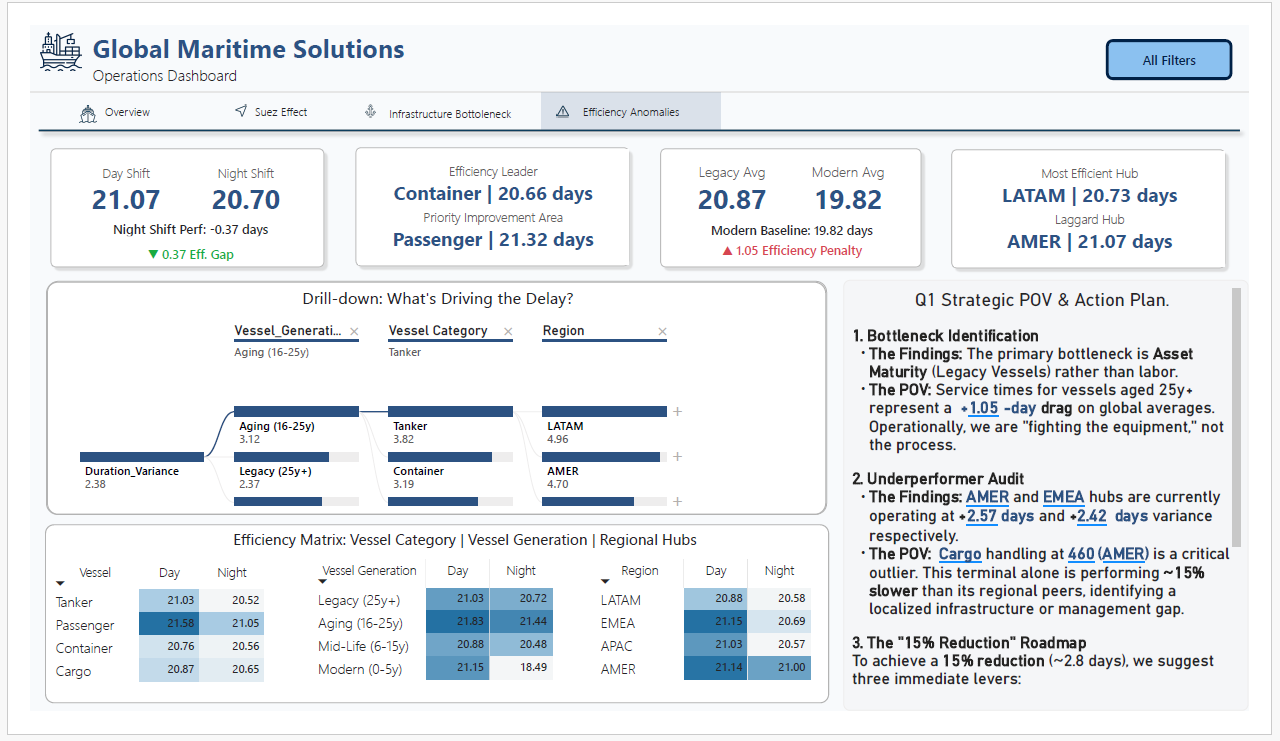

What the dashboard file says about the page in this screenshot:
{"tool":"powerbi","page":{"name":"Efficiency Anomalies","canvas":[1280,720],"ordinal":3},"visuals":[{"type":"actionButton","box":[27.3,70,148.8,40],"z":0,"group":"g5"},{"type":"actionButton","box":[178.5,70,167.5,40],"z":0,"group":"g6"},{"type":"actionButton","box":[347.3,70,187.5,42.5],"z":0,"group":"g7"},{"type":"actionButton","box":[537.3,70,187.5,38.8],"z":0,"group":"g8"},{"type":"shape","box":[335.2,122.1,300,137],"z":0,"group":"g10"},{"type":"shape","box":[655.6,122.6,286.6,137],"z":0,"group":"g11"},{"type":"shape","box":[14.9,123.1,300,137],"z":0,"group":"g9"},{"type":"shape","box":[962.5,123.5,300,137],"z":0,"group":"g12"},{"type":"cardVisual","fields":{"Data":["fact_cargo_movements.Best_Category_Display","fact_cargo_movements.Worst_Category_Display"]},"box":[343.8,130.2,284,120.8],"z":0,"group":"g1"},{"type":"cardVisual","fields":{"Data":["fact_cargo_movements.Best_Hub_Display","fact_cargo_movements.Worst_Hub_Display"]},"box":[971.1,131.6,284,120.8],"z":0,"group":"g2"},{"type":"cardVisual","fields":{"Data":["fact_cargo_movements.Legacy_Avg","fact_cargo_movements.Modern_Avg"]},"box":[663.6,132.4,268,76],"z":0,"group":"g3"},{"type":"cardVisual","fields":{"Data":["fact_cargo_movements.Day_Shift_Avg","fact_cargo_movements.Night_Shift_Avg"]},"box":[24.5,133.5,277.6,79.9],"z":0,"group":"g4"},{"type":"shape","box":[15,524,824,188],"z":0},{"type":"shape","box":[0,0,1280,140],"z":1000},{"type":"image","box":[51,82.1,18.7,20.8],"z":1000,"group":"g5"},{"type":"group","id":"g1","title":"Group 2","box":[343.8,130.2,284,120.8],"z":1000,"group":"g10"},{"type":"group","id":"g2","title":"Group 2","box":[971.1,131.6,284,120.8],"z":1000,"group":"g12"},{"type":"group","id":"g3","title":"Group 2","box":[663.6,132.4,269,117.8],"z":1000,"group":"g11"},{"type":"group","id":"g4","title":"Group 2","box":[23.8,133.5,287.7,119.6],"z":1000,"group":"g9"},{"type":"cardVisual","fields":{"Data":["fact_cargo_movements.Legacy_Line1_Benchmark","fact_cargo_movements.Legacy_pentaly_Text"]},"box":[666.6,197.5,266,52.7],"z":1000,"group":"g3"},{"type":"cardVisual","fields":{"Data":["fact_cargo_movements.Night_Shift_Delta_text","fact_cargo_movements.Night_Shift_Line2_Gap"]},"box":[23.8,198.1,287.7,55],"z":1000,"group":"g4"},{"type":"shape","box":[15.7,268.6,820,245.7],"z":2000},{"type":"textbox","box":[60,0,431.2,70],"z":3000},{"type":"image","box":[6.2,6.2,50,42.5],"z":4000},{"type":"actionButton","box":[1130,14.3,132.9,42.9],"z":5000},{"type":"shape","box":[0,86.2,1280,48],"z":6000},{"type":"group","id":"g5","title":"Group 1","box":[27.3,70,148.8,40],"z":7000},{"type":"group","id":"g6","title":"Group 1","box":[178.5,70,167.5,40],"z":8000},{"type":"group","id":"g7","title":"Group 1","box":[347.3,70,187.5,42.5],"z":9000},{"type":"image","box":[211.5,83,17,12],"z":10000},{"type":"image","box":[351,82.5,12.5,13.8],"z":11000},{"type":"group","id":"g8","title":"Group 1","box":[537.3,70,187.5,38.8],"z":12000},{"type":"image","box":[548.5,83.8,20,12.5],"z":13000},{"type":"decompositionTreeVisual","title":"Drill-down: What''s Driving the Delay?","fields":{"ExplainBy":["dim_vessel.Vessel_Generation","dim_vessel.vessel_category","dim_terminal.regional_hub","dim_terminal.terminal_id","dim_time.shift"],"Analyze":["fact_cargo_movements.M2.Duration_Variance"]},"box":[17,268.1,820,245.9],"z":14000},{"type":"group","id":"g9","title":"Group 3","box":[14.9,123.1,300,137],"z":15000},{"type":"group","id":"g10","title":"Group 3","box":[335.2,122.1,300,137.1],"z":16000},{"type":"group","id":"g11","title":"Group 3","box":[655.6,122.6,286.6,137],"z":17000},{"type":"group","id":"g12","title":"Group 3","box":[962.5,123.5,300,137.1],"z":18000},{"type":"pivotTable","title":"Efficiency Matrix","fields":{"Rows":["dim_vessel.vessel_category"],"Columns":["dim_time.shift"],"Values":["fact_cargo_movements.M2.Avg Move Duration"]},"box":[15.8,557.5,250,155],"z":19000},{"type":"pivotTable","title":"Efficiency Matrix","fields":{"Columns":["dim_time.shift"],"Values":["fact_cargo_movements.M2.Avg Move Duration"],"Rows":["Generation_Map.GenerationName"]},"box":[291.7,555.8,265,156.7],"z":20000},{"type":"pivotTable","title":"Efficiency Matrix","fields":{"Columns":["dim_time.shift"],"Values":["fact_cargo_movements.M2.Avg Move Duration"],"Rows":["dim_terminal.regional_hub"]},"box":[589.2,555.8,250,155.8],"z":21000},{"type":"textbox","box":[162.9,524.3,587.1,47.1],"z":22000},{"type":"textbox","box":[854.3,267.1,425.7,452.9],"z":23000}]}

Visuals, with their boxes in screenshot pixels (x1, y1, x2, y2), scaled from the page's 1280x720 canvas onto the 1280x741 screenshot:
actionButton: <bbox>27, 72, 176, 113</bbox>
actionButton: <bbox>178, 72, 346, 113</bbox>
actionButton: <bbox>347, 72, 535, 116</bbox>
actionButton: <bbox>537, 72, 725, 112</bbox>
shape: <bbox>335, 126, 635, 267</bbox>
shape: <bbox>656, 126, 942, 267</bbox>
shape: <bbox>15, 127, 315, 268</bbox>
shape: <bbox>962, 127, 1262, 268</bbox>
cardVisual - fact_cargo_movements.Best_Category_Display x fact_cargo_movements.Worst_Category_Display: <bbox>344, 134, 628, 258</bbox>
cardVisual - fact_cargo_movements.Best_Hub_Display x fact_cargo_movements.Worst_Hub_Display: <bbox>971, 135, 1255, 260</bbox>
cardVisual - fact_cargo_movements.Legacy_Avg x fact_cargo_movements.Modern_Avg: <bbox>664, 136, 932, 214</bbox>
cardVisual - fact_cargo_movements.Day_Shift_Avg x fact_cargo_movements.Night_Shift_Avg: <bbox>24, 137, 302, 220</bbox>
shape: <bbox>15, 539, 839, 733</bbox>
shape: <bbox>0, 0, 1279, 144</bbox>
image: <bbox>51, 84, 70, 106</bbox>
"Group 2" group: <bbox>344, 134, 628, 258</bbox>
"Group 2" group: <bbox>971, 135, 1255, 260</bbox>
"Group 2" group: <bbox>664, 136, 933, 257</bbox>
"Group 2" group: <bbox>24, 137, 312, 260</bbox>
cardVisual - fact_cargo_movements.Legacy_Line1_Benchmark x fact_cargo_movements.Legacy_pentaly_Text: <bbox>667, 203, 933, 257</bbox>
cardVisual - fact_cargo_movements.Night_Shift_Delta_text x fact_cargo_movements.Night_Shift_Line2_Gap: <bbox>24, 204, 312, 260</bbox>
shape: <bbox>16, 276, 836, 529</bbox>
textbox: <bbox>60, 0, 491, 72</bbox>
image: <bbox>6, 6, 56, 50</bbox>
actionButton: <bbox>1130, 15, 1263, 59</bbox>
shape: <bbox>0, 89, 1279, 138</bbox>
"Group 1" group: <bbox>27, 72, 176, 113</bbox>
"Group 1" group: <bbox>178, 72, 346, 113</bbox>
"Group 1" group: <bbox>347, 72, 535, 116</bbox>
image: <bbox>212, 85, 228, 98</bbox>
image: <bbox>351, 85, 364, 99</bbox>
"Group 1" group: <bbox>537, 72, 725, 112</bbox>
image: <bbox>548, 86, 568, 99</bbox>
"Drill-down: What''s Driving the Delay?" decompositionTreeVisual: <bbox>17, 276, 837, 529</bbox>
"Group 3" group: <bbox>15, 127, 315, 268</bbox>
"Group 3" group: <bbox>335, 126, 635, 267</bbox>
"Group 3" group: <bbox>656, 126, 942, 267</bbox>
"Group 3" group: <bbox>962, 127, 1262, 268</bbox>
"Efficiency Matrix" pivotTable: <bbox>16, 574, 266, 733</bbox>
"Efficiency Matrix" pivotTable: <bbox>292, 572, 557, 733</bbox>
"Efficiency Matrix" pivotTable: <bbox>589, 572, 839, 732</bbox>
textbox: <bbox>163, 540, 750, 588</bbox>
textbox: <bbox>854, 275, 1279, 740</bbox>
